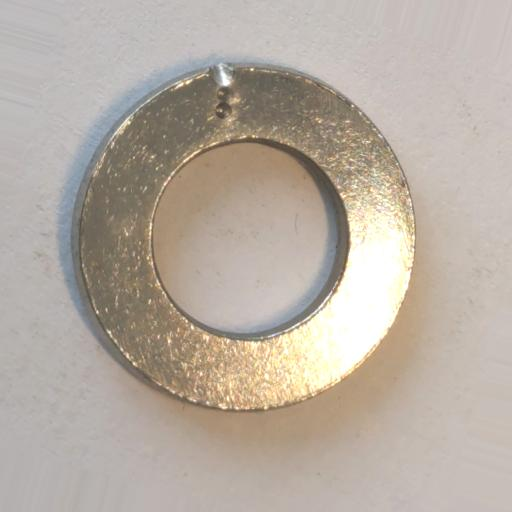circular_cavity: (208, 60, 236, 87), (215, 102, 232, 119), (217, 87, 234, 103)
